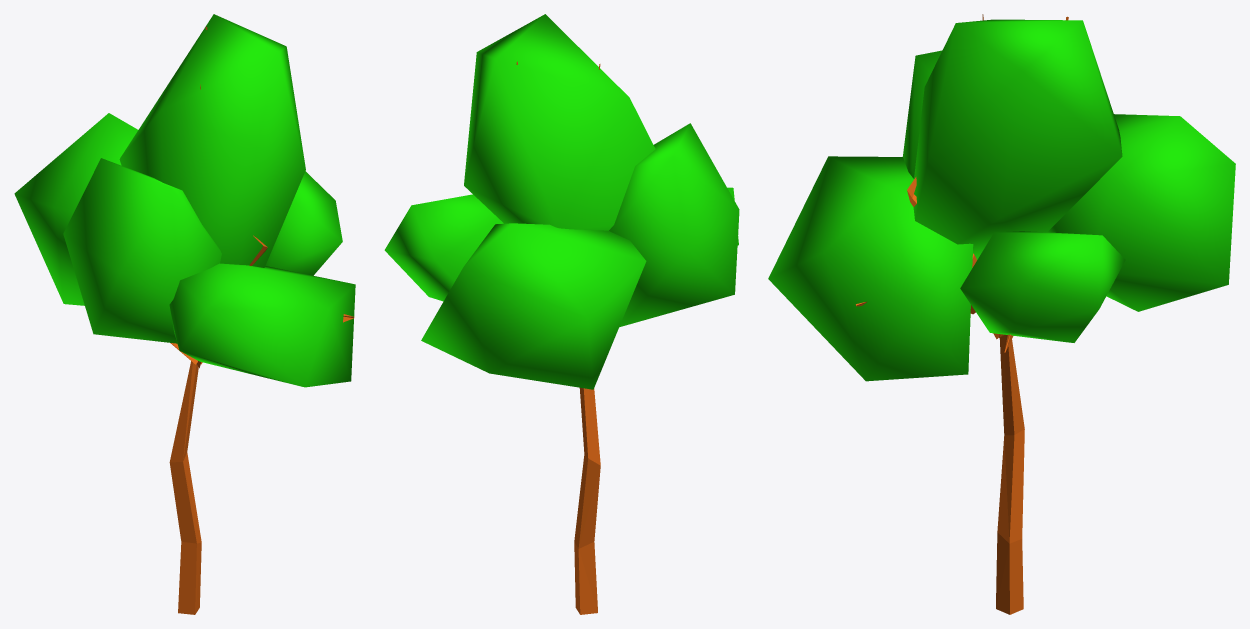
The model's file is Tree.fbx.
3 renders of one model, left to right at view 1: azimuth 30°, elevation 25°; view 2: azimuth 150°, elevation 25°; view 3: azimuth 270°, elevation 25°, orthographic. The views are drawn at different scales.
Parts seen in each view (by area): view 1: Icosphere.003; view 2: Icosphere.003; view 3: Icosphere.003.
Part boxes in pixels (bbox=[...]): Icosphere.003: bbox=[14, 14, 355, 614]; Icosphere.003: bbox=[384, 14, 739, 614]; Icosphere.003: bbox=[768, 14, 1235, 614].
Size of the model in its own units: 1639 by 3103 by 2117.
